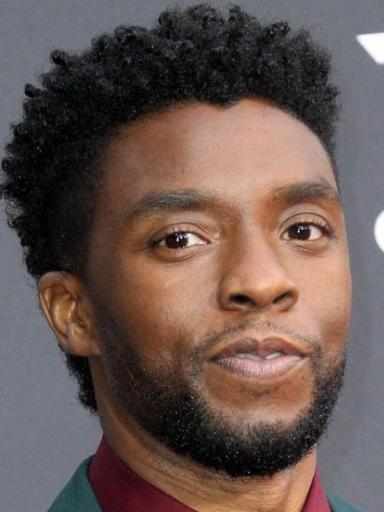left_eye: (278, 220, 333, 249)
left_lip_corner: (297, 347, 313, 369)
right_eye: (145, 229, 214, 259)
right_lip_corner: (206, 349, 223, 374)
